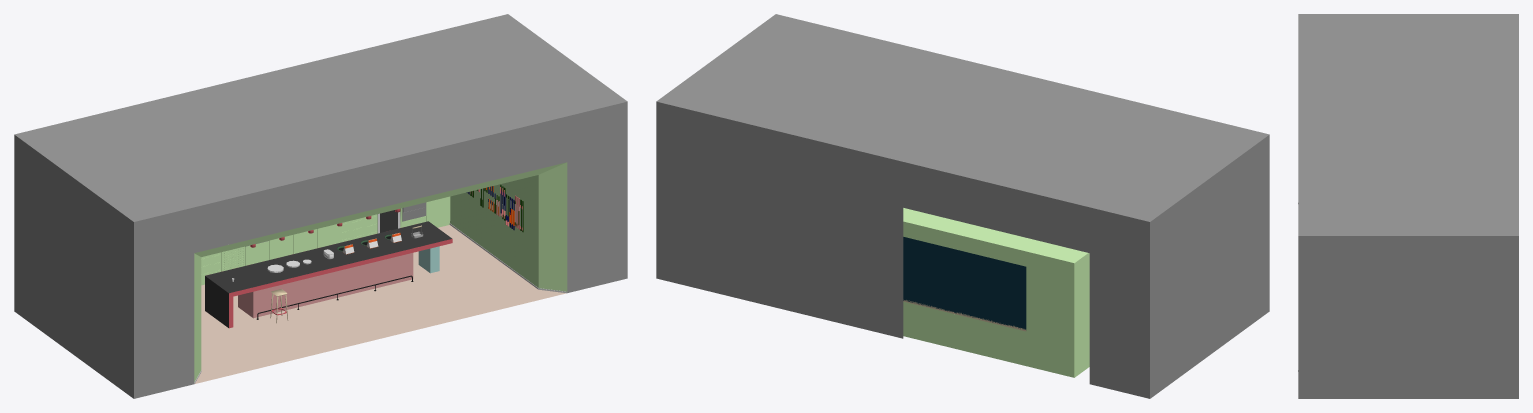
The model's file is ul-kitchen18.gltf.
The picture shows the model from 3 angles, left to right: view 1: azimuth 30°, elevation 25°; view 2: azimuth 150°, elevation 25°; view 3: azimuth 270°, elevation 25°; orthographic projection. The views are drawn at different scales.
Visible parts, largest first — view 1: concreteWalls, floor, mainGreenWall, mainTableTopPlane, mainTableBase, closetDoors, mainTableSidePannels, mainTableSidePlane; view 2: concreteWalls, mainGreenWall, MainNishBackWall; view 3: concreteWalls.
Part boxes in pixels (x1,y1,x2,y2): concreteWalls: (14, 14, 627, 398); floor: (195, 225, 565, 383); mainGreenWall: (194, 162, 567, 381); mainTableTopPlane: (205, 221, 451, 292); mainTableBase: (238, 253, 413, 318); closetDoors: (201, 196, 450, 281); mainTableSidePannels: (229, 239, 452, 328); mainTableSidePlane: (205, 276, 228, 327); concreteWalls: (656, 14, 1269, 398); mainGreenWall: (903, 208, 1089, 377); MainNishBackWall: (903, 237, 1026, 329); concreteWalls: (1298, 14, 1518, 398).
Size of the model in its own units: 208 by 71.34 by 87.55.
